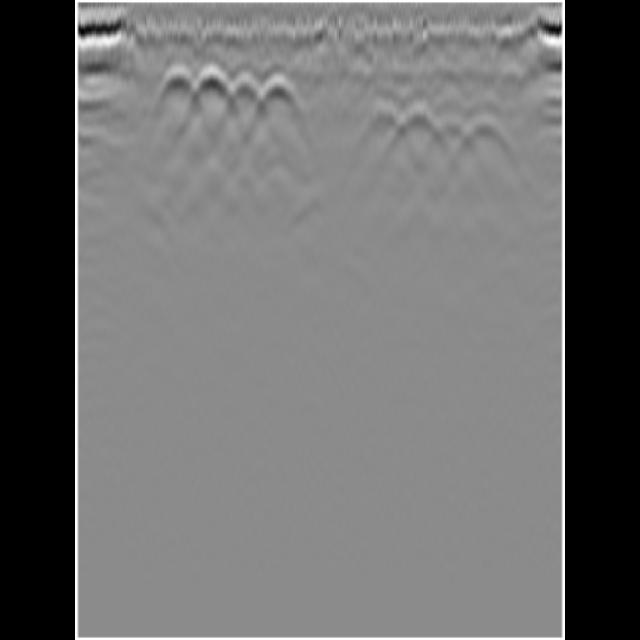hyperbola: (457, 116, 519, 160), (428, 112, 478, 156), (256, 69, 300, 117), (188, 62, 236, 105), (356, 100, 409, 138), (156, 60, 198, 98), (398, 98, 442, 134), (228, 68, 266, 106)
